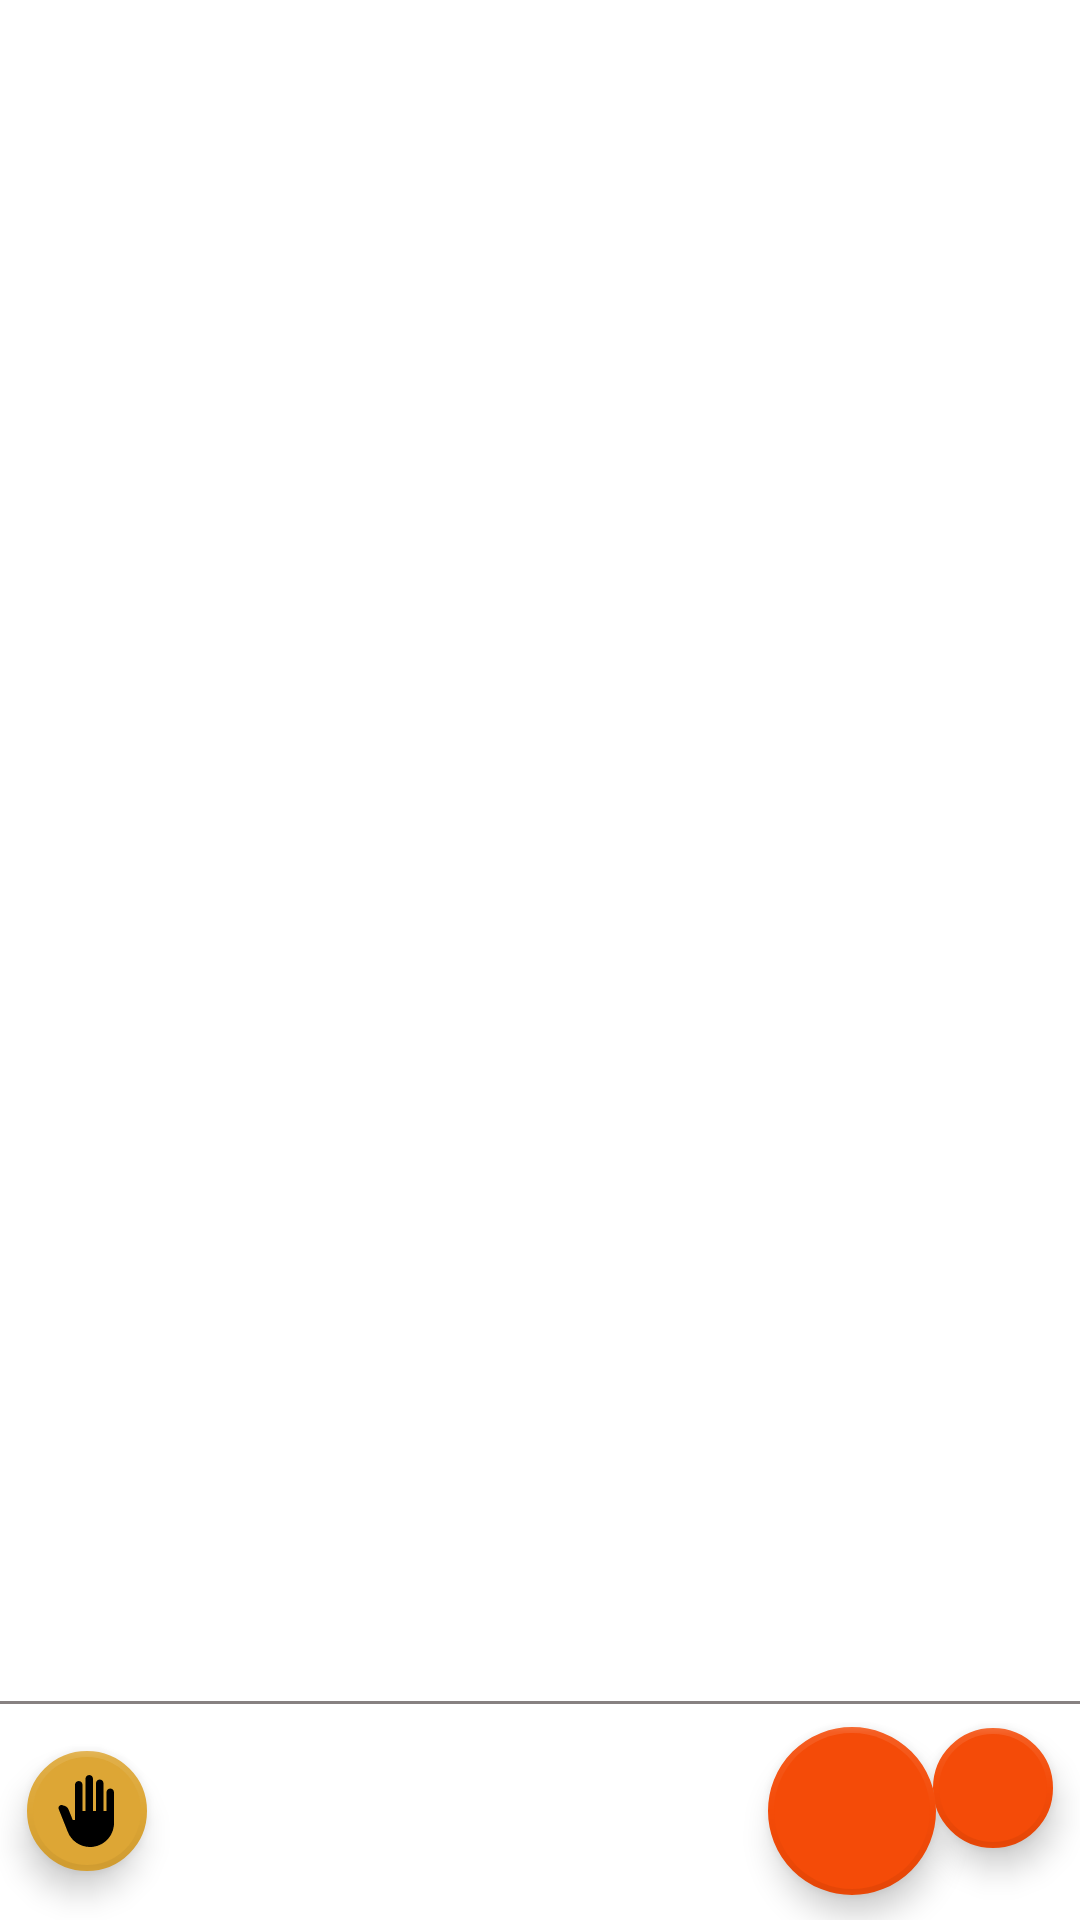

Icon bounding boxes for this 1080 × 1920 phone screenshot, format [left=x1, top=y1, right=x2, bottom=y2]:
hand: [left=25, top=1751, right=147, bottom=1883]
